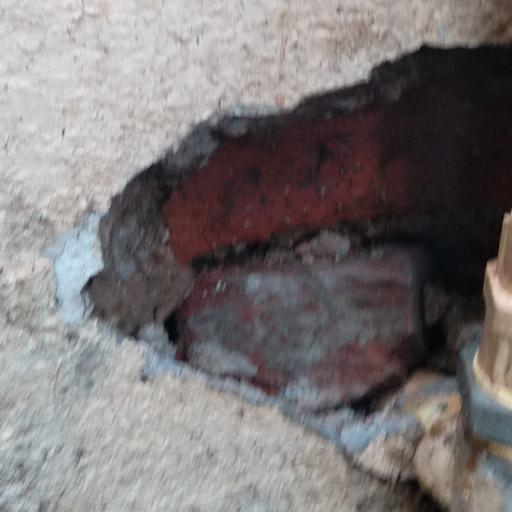spalling: (79, 28, 512, 508)
